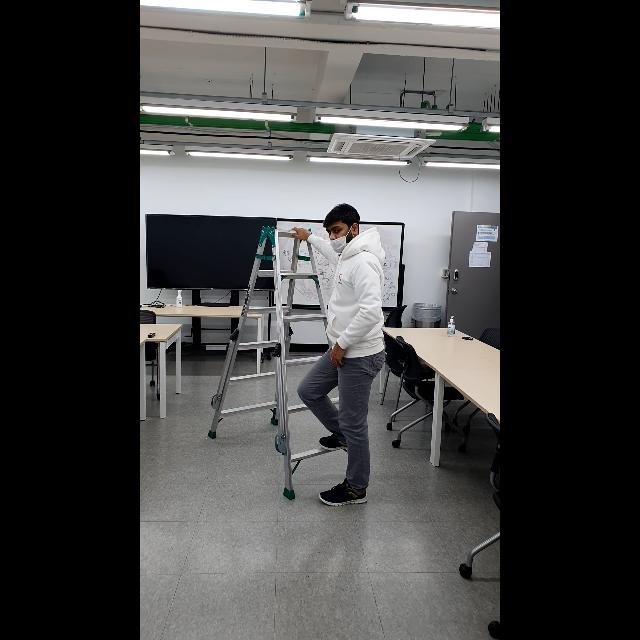hard hat: (209, 221, 359, 501)
vest: (291, 203, 389, 511)
